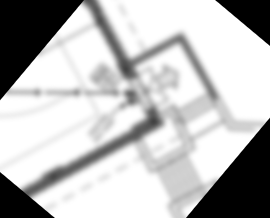double door: (124, 61, 179, 115)
wall: (20, 78, 178, 218), (52, 0, 157, 97), (140, 103, 172, 134)
